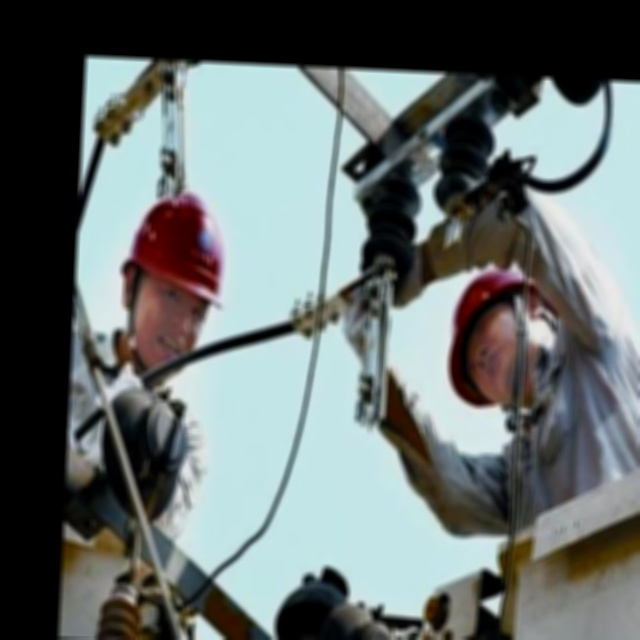Con_Casco: (125, 189, 232, 375), (445, 265, 556, 414)
